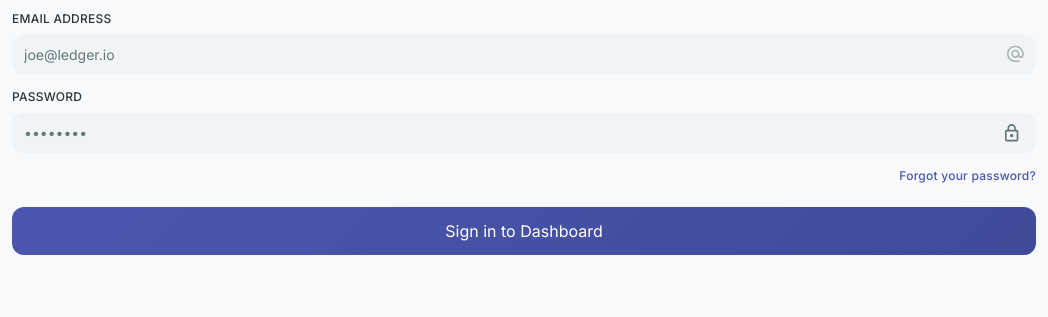
it: LoginForm › displays validation errors when submitted without credentials
This screenshot has width=1048, height=317.
Click the button "Sign in to Dashboard": (524, 231) [12, 207, 1036, 255]
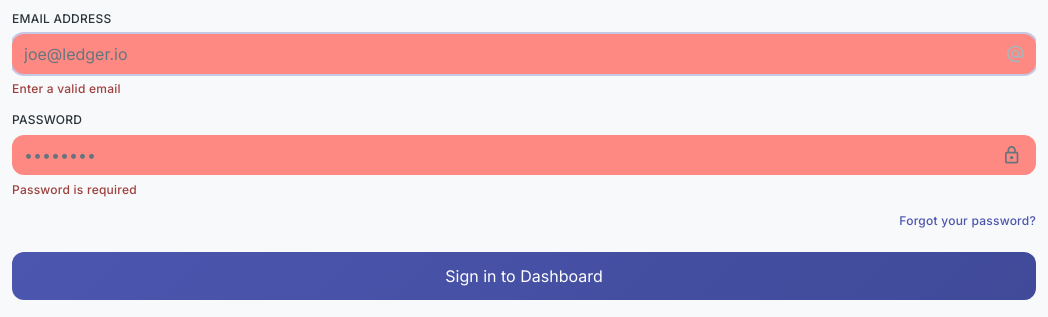
Expected: the text "Enter a valid email" is shown, [12, 81, 121, 96]
Expected: the text "Password is required" is shown, [12, 182, 137, 197]
